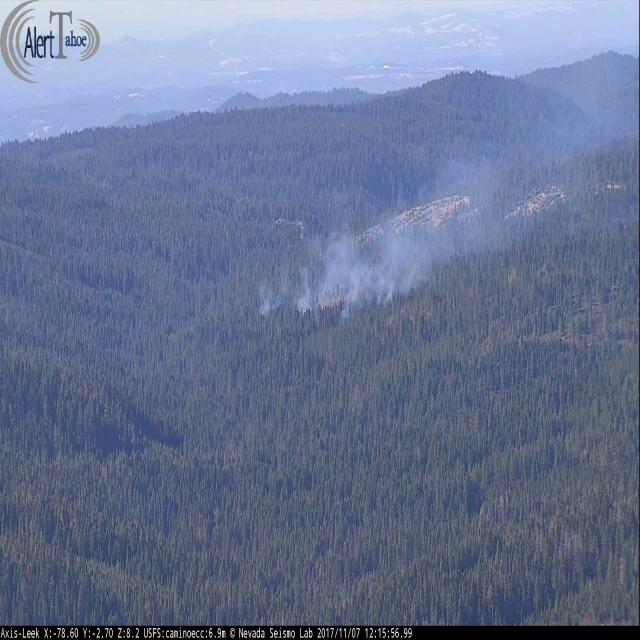smoke: (253, 67, 640, 323)
